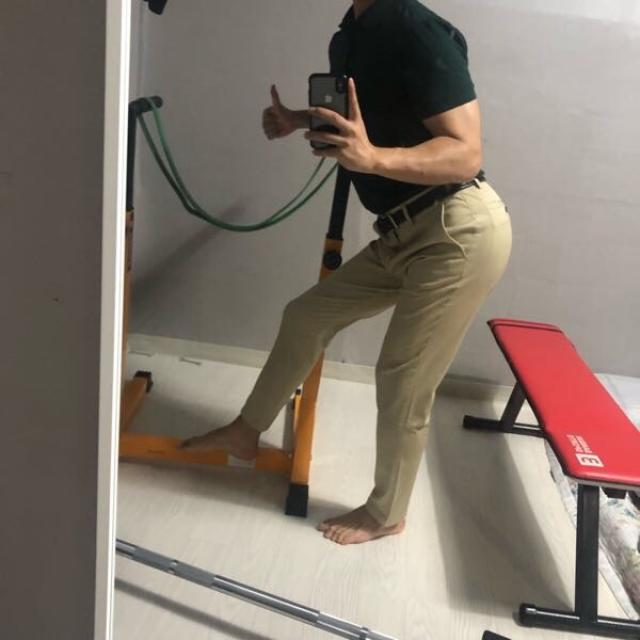cottonpants: (232, 169, 514, 533)
shortsleeve: (333, 1, 478, 217)
